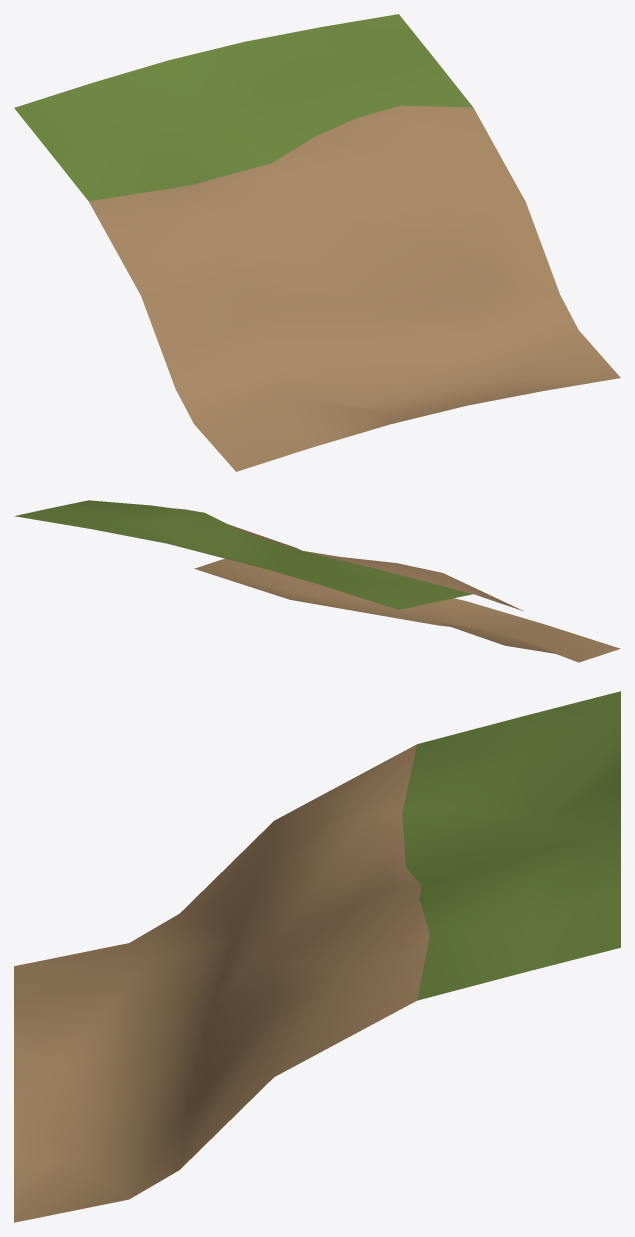
The model's file is rpgpp_av_terrain_lake_01_10x10m.gltf.
3 renders of one model, top to bottom at view 1: azimuth 30°, elevation 25°; view 2: azimuth 150°, elevation 25°; view 3: azimuth 270°, elevation 25°, orthographic. The views are drawn at different scales.
Parts seen in each view (by area): view 1: rpgpp_av_terrain_lake_01_10x10m; view 2: rpgpp_av_terrain_lake_01_10x10m; view 3: rpgpp_av_terrain_lake_01_10x10m.
Part boxes in pixels (x1=…): rpgpp_av_terrain_lake_01_10x10m: x1=14, y1=14, x2=620, y2=471; rpgpp_av_terrain_lake_01_10x10m: x1=14, y1=500, x2=620, y2=662; rpgpp_av_terrain_lake_01_10x10m: x1=14, y1=691, x2=620, y2=1222.
Bounding box in the file's own units: 0.1 × 0.0525 × 0.1.
1 material, 1 textured.
